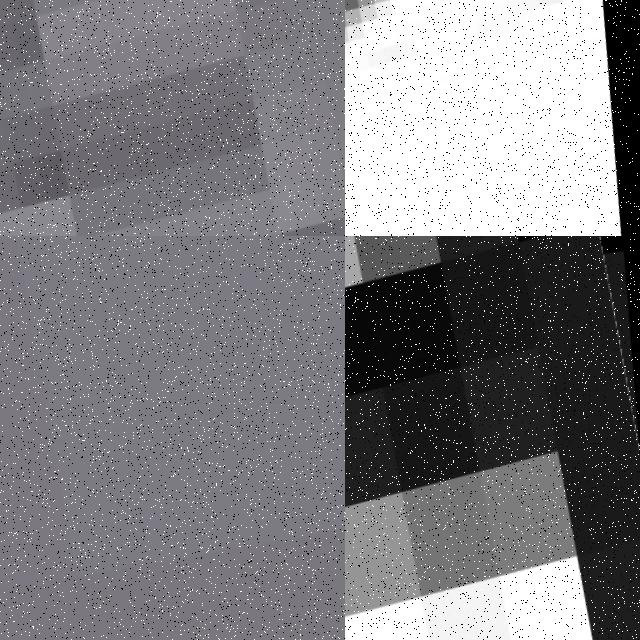0: (0, 0, 345, 236)
drone: (345, 236, 640, 640), (345, 0, 640, 236)
